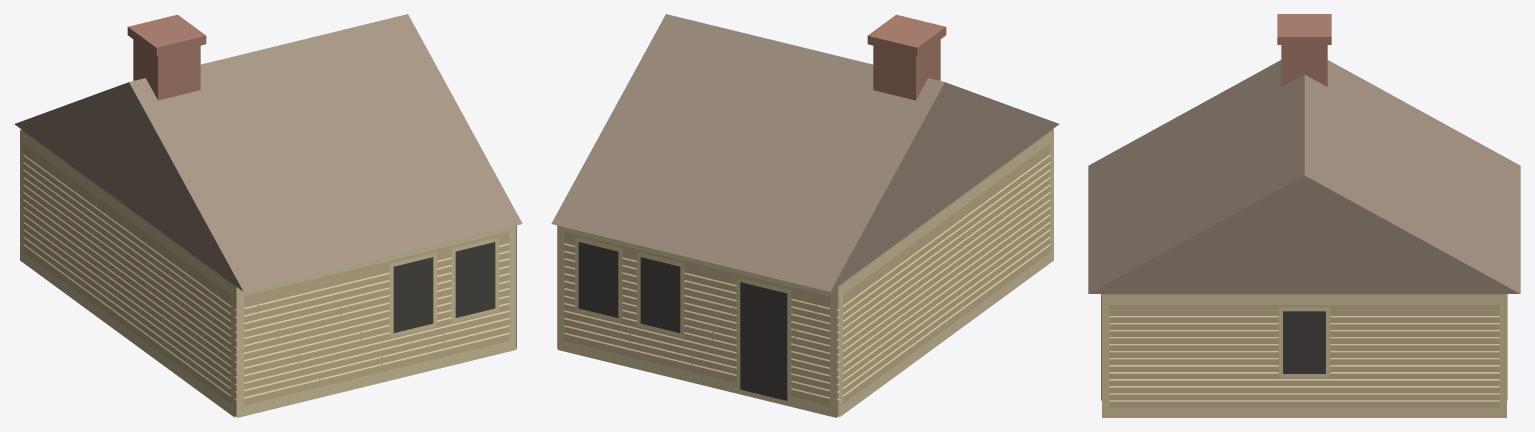
The model's file is recon_1835_west_029__inferred_1835.glb.
3 views of the same model, side by side, from view 1: azimuth 30°, elevation 25°; view 2: azimuth 150°, elevation 25°; view 3: azimuth 270°, elevation 25° (orthographic). The views are drawn at different scales.
Visible parts, largest first — view 1: recon_1835_west_029__inferred_1835; view 2: recon_1835_west_029__inferred_1835; view 3: recon_1835_west_029__inferred_1835.
Part boxes in pixels (x1,y1,x2,y2): recon_1835_west_029__inferred_1835: (14,14,522,417); recon_1835_west_029__inferred_1835: (551,14,1059,417); recon_1835_west_029__inferred_1835: (1088,14,1520,417).
Bounding box in the file's own units: 5.57 × 5.6 × 7.82.
